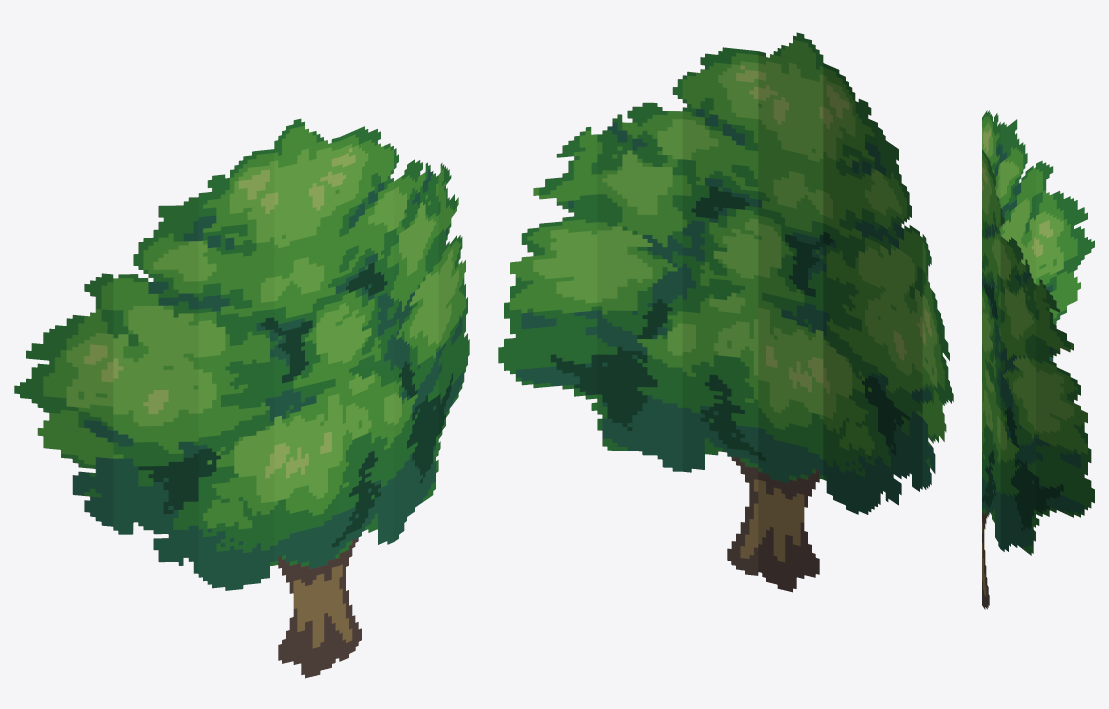
3 renders of one model, left to right at view 1: azimuth 30°, elevation 25°; view 2: azimuth 150°, elevation 25°; view 3: azimuth 270°, elevation 25°, orthographic. The views are drawn at different scales.
Parts seen in each view (by area): view 1: eikenboomGroot; view 2: eikenboomGroot; view 3: eikenboomGroot.
Part boxes in pixels (x1=…): eikenboomGroot: x1=14, y1=118, x2=469, y2=678; eikenboomGroot: x1=498, y1=32, x2=953, y2=592; eikenboomGroot: x1=982, y1=110, x2=1094, y2=609.
Size of the model in its own units: 85 by 100 by 20.99.
1 material, 1 textured.
